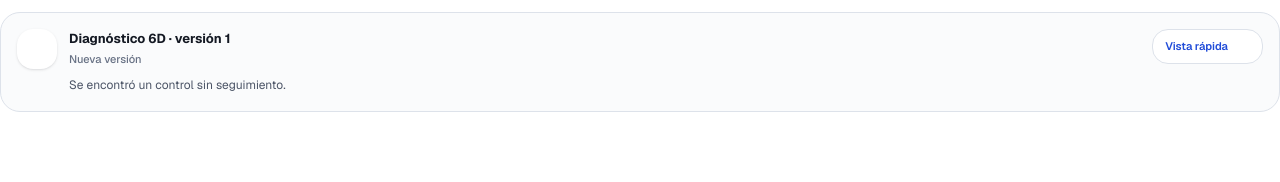
Test: vista rápida de entregables en la conversación › no confunde una versión histórica con el contenido vigente
The image size is (1280, 182).
Click the button "Vista rápida": x=1208, y=46 [1152,29,1263,64]
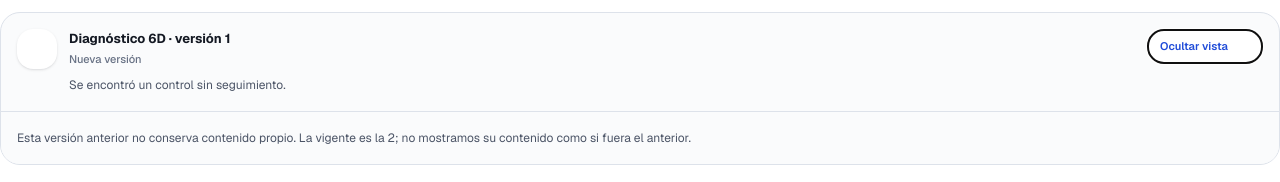
Expected: the text "La vigente es la 2" is shown, [17,130,691,146]
